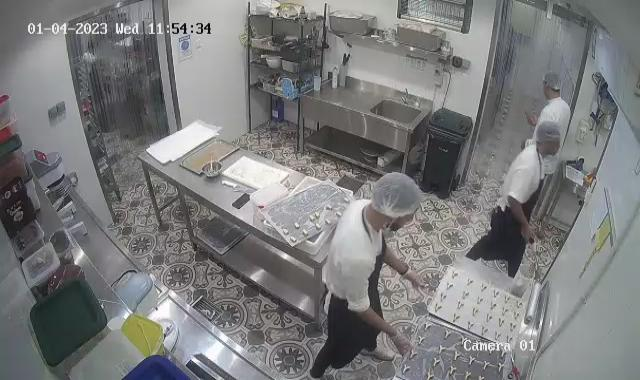hairnet: (368, 172, 422, 222), (534, 118, 563, 149), (541, 71, 563, 93)
